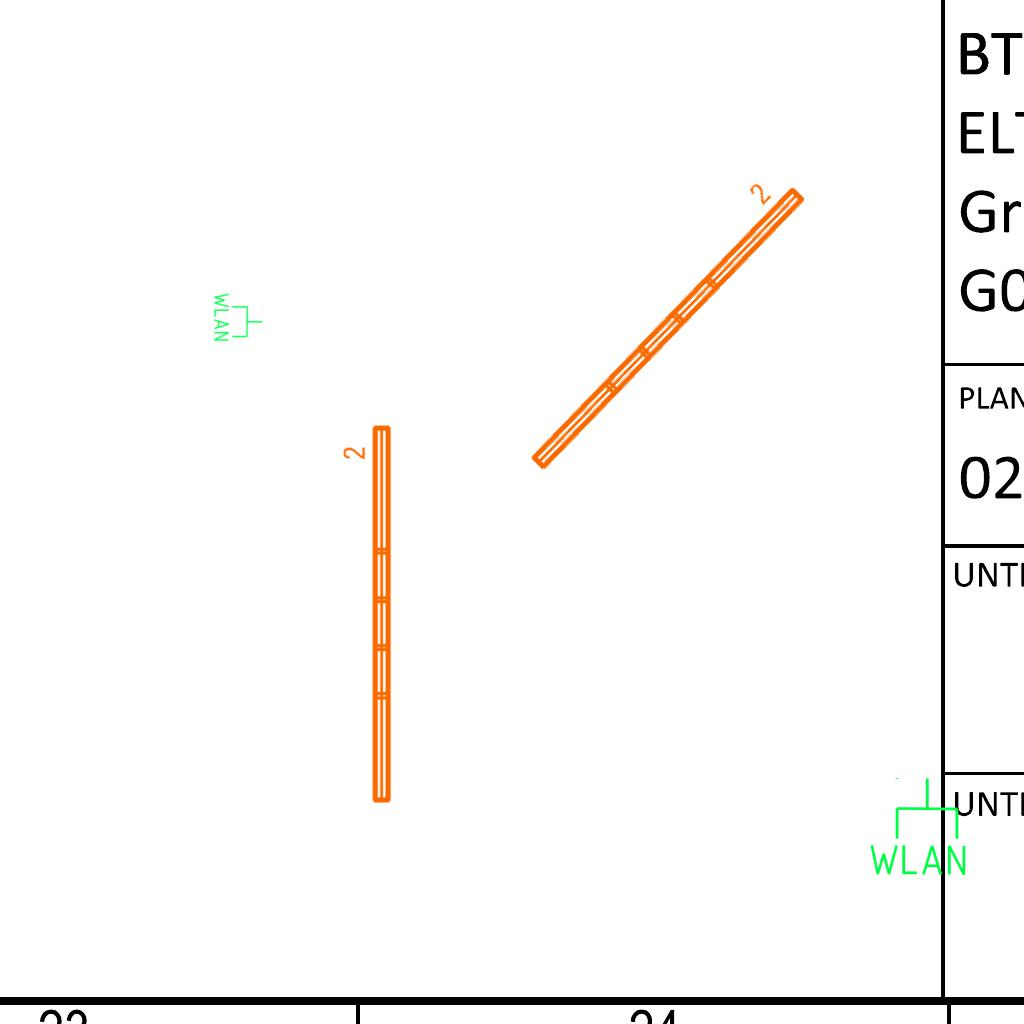Ambulanz_Pendelleuchte_LED: (503, 161, 814, 479), (341, 421, 397, 808)
WLAN: (865, 775, 970, 879), (212, 291, 264, 343)
